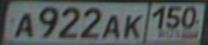license-plateSW: (6, 2, 203, 44)
